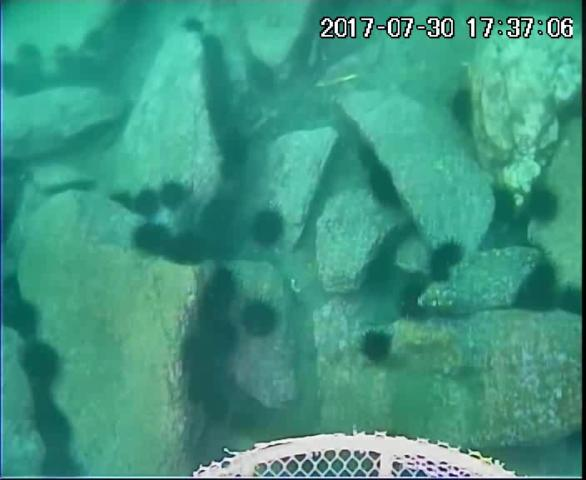echinus: (181, 335, 227, 378), (19, 342, 63, 385), (203, 267, 239, 319), (238, 298, 281, 339), (199, 197, 241, 238), (367, 164, 403, 211), (428, 240, 464, 286), (34, 408, 73, 450), (167, 229, 212, 265), (249, 207, 287, 249), (133, 221, 176, 258), (394, 285, 433, 324), (525, 187, 561, 228), (525, 259, 562, 298), (219, 127, 251, 169), (359, 328, 395, 365), (132, 186, 165, 225), (489, 189, 520, 230), (187, 369, 222, 405), (7, 301, 40, 338), (244, 60, 279, 94), (365, 258, 398, 293), (40, 451, 80, 479), (12, 67, 48, 97), (451, 88, 478, 127), (209, 74, 235, 114), (13, 42, 47, 71), (155, 181, 185, 213), (355, 140, 382, 175), (203, 391, 231, 424), (560, 283, 586, 318), (205, 32, 226, 75), (80, 30, 107, 55), (108, 191, 139, 211), (178, 15, 207, 35)
